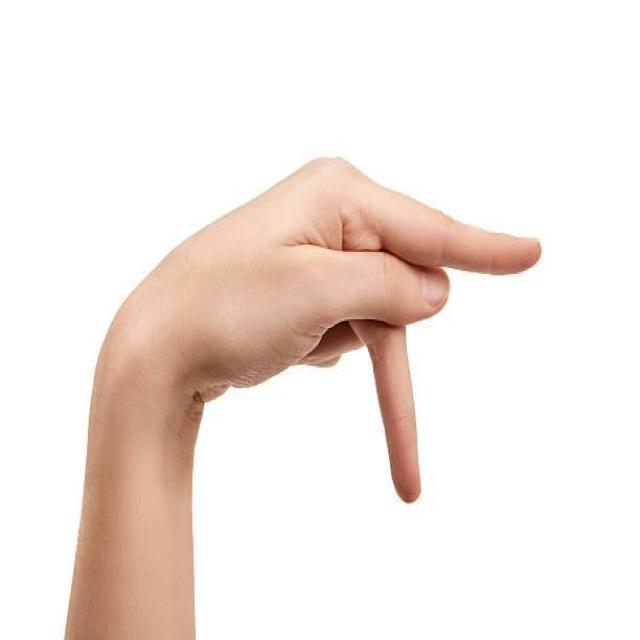P: (182, 152, 546, 508)
